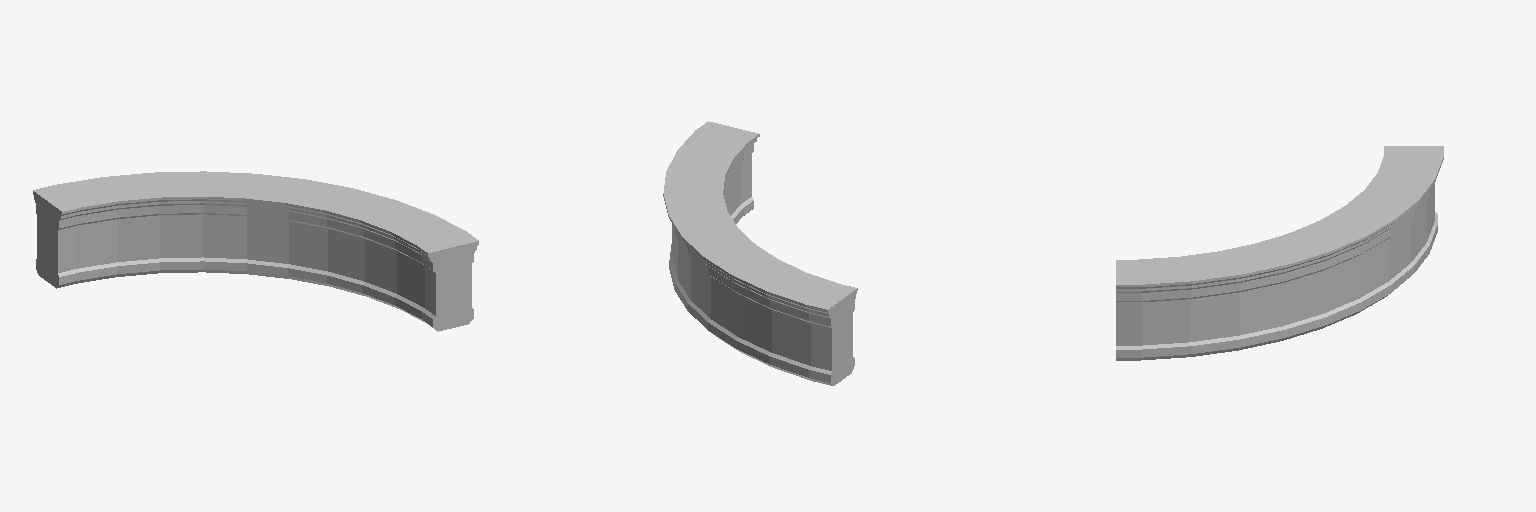
The model's file is Structure_Wall_Curved_Small_Top.obj.
3 views of the same model, side by side, from view 1: azimuth 30°, elevation 25°; view 2: azimuth 150°, elevation 25°; view 3: azimuth 270°, elevation 25° (orthographic).
Visible parts, largest first — view 1: object1; view 2: object1; view 3: object1.
Boxes of the visible parts, x1,y1,x2,y2 form: object1: [33, 171, 478, 331]; object1: [663, 121, 857, 385]; object1: [1116, 146, 1443, 360].
Size of the model in its own units: 1.1 by 0.3 by 1.1.